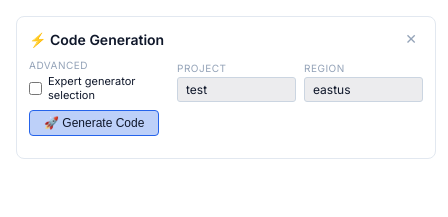
it: CodePreview › shows generic error on unexpected error
This screenshot has width=448, height=217.
Click the button "🚀 Generate Code" at [94, 123], box [29,110,159,136]
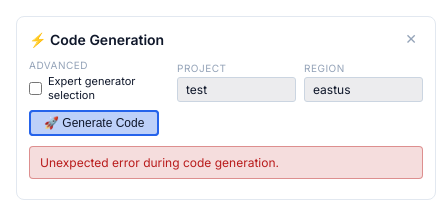
Result: the text "Unexpected error during code generation." is shown at [29,146,423,179]
